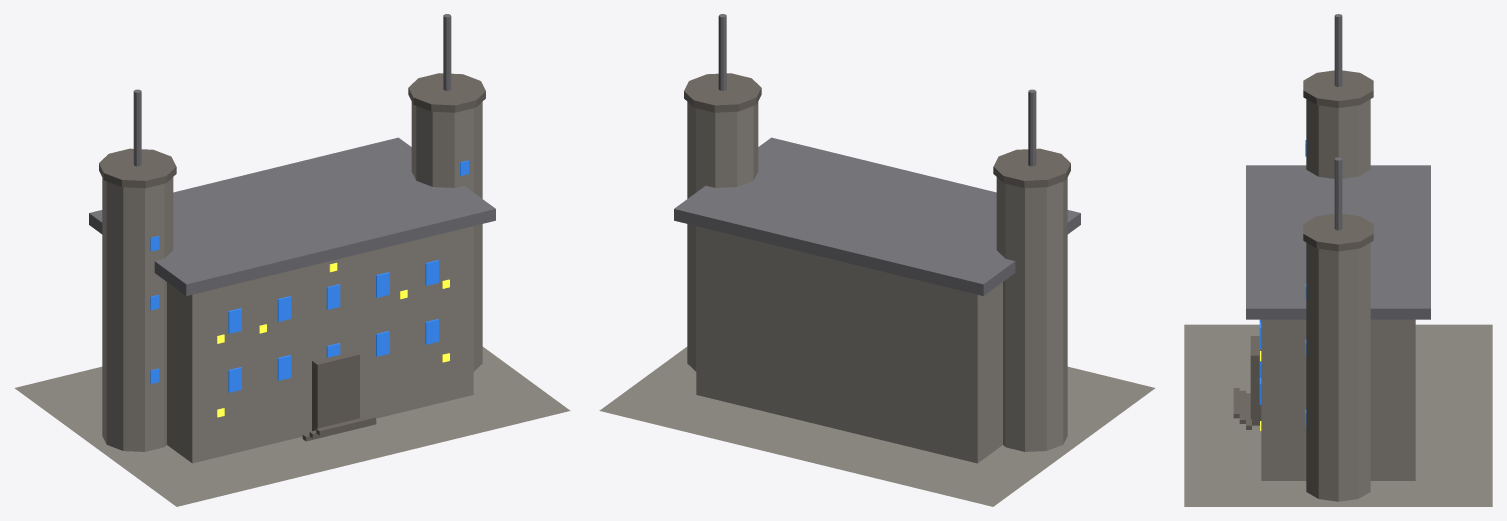
File: akademie_exterior.glb
3 views of the same model, side by side, from view 1: azimuth 30°, elevation 25°; view 2: azimuth 150°, elevation 25°; view 3: azimuth 270°, elevation 25° (orthographic). The views are drawn at different scales.
Visible parts, largest first — view 1: MainBody, Roof, Ground, Tower_-11, Tower_11, Arch, TowerRing_11, TowerRing_-11, TowerSpire_-11, TowerSpire_11; view 2: MainBody, Roof, Ground, Tower_-11, Tower_11, TowerRing_11, TowerRing_-11, TowerSpire_-11, TowerSpire_11; view 3: Ground, Roof, Tower_11, MainBody, Tower_-11, TowerRing_-11, TowerRing_11, Arch, TowerSpire_11, TowerSpire_-11.
Part boxes in pixels (x1,y1,x2,y2): MainBody: (167,226,473,463); Roof: (89,137,495,295); Ground: (14,347,570,506); Tower_-11: (102,177,173,451); Tower_11: (411,102,482,371); Arch: (312,350,359,430); TowerRing_11: (408,73,485,112); TowerRing_-11: (99,148,176,188); TowerSpire_-11: (133,89,141,166); TowerSpire_11: (443,14,451,90); MainBody: (696,226,1002,463); Roof: (674,137,1080,295); Ground: (599,347,1155,506); Tower_-11: (996,177,1067,451); Tower_11: (687,102,758,371); TowerRing_11: (684,73,761,112); TowerRing_-11: (993,148,1070,188); TowerSpire_-11: (1028,89,1036,166); TowerSpire_11: (718,14,726,90); Ground: (1184,324,1492,506); Roof: (1246,165,1430,319); Tower_11: (1306,242,1370,501); MainBody: (1261,319,1415,480); Tower_-11: (1306,99,1370,178); TowerRing_-11: (1303,70,1373,107); TowerRing_11: (1303,214,1373,251); Arch: (1250,336,1261,425); TowerSpire_11: (1334,157,1342,230); TowerSpire_-11: (1334,14,1342,86).
Size of the model in its own units: 28 by 23.5 by 20.
